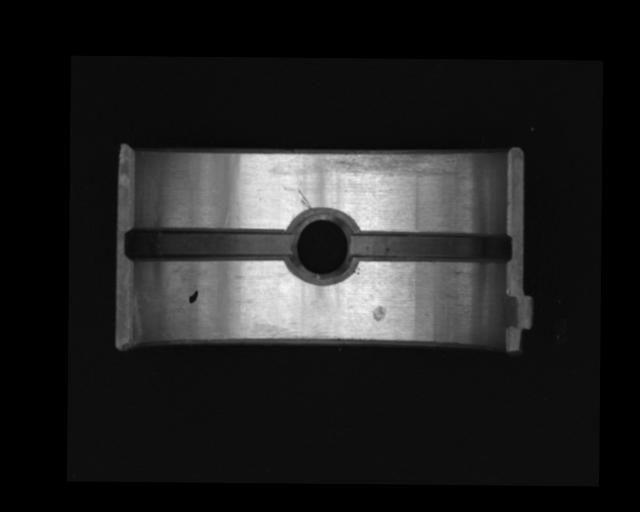blot: (187, 289, 199, 304)
bruise: (371, 305, 387, 322)
gap: (123, 226, 296, 263), (350, 231, 513, 264)
hole: (289, 208, 358, 283)
nick: (298, 188, 312, 210)
scratch: (321, 148, 469, 179)
